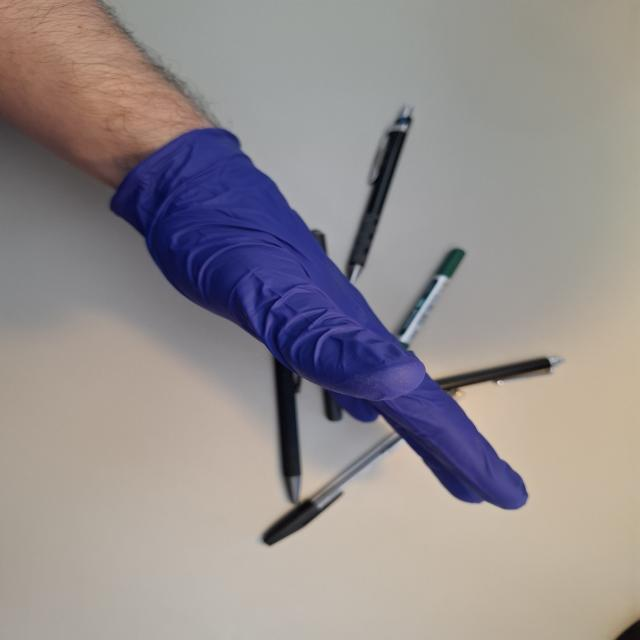glove_on: (106, 126, 534, 513)
